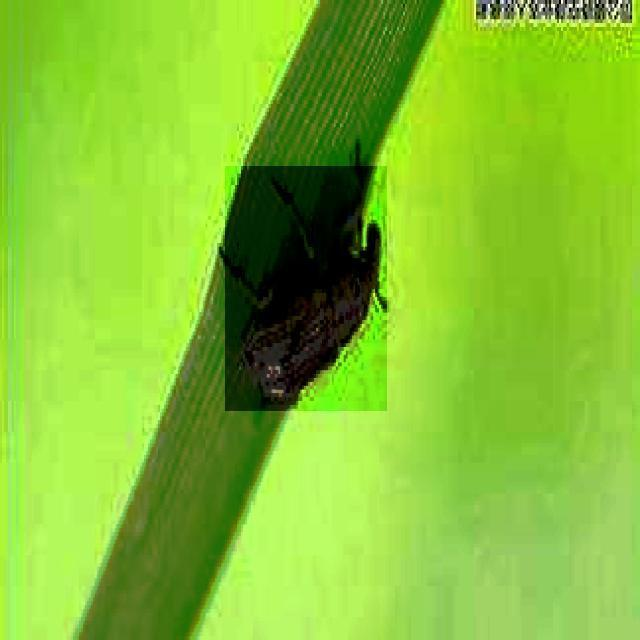rice-bug: (225, 166, 387, 411)
